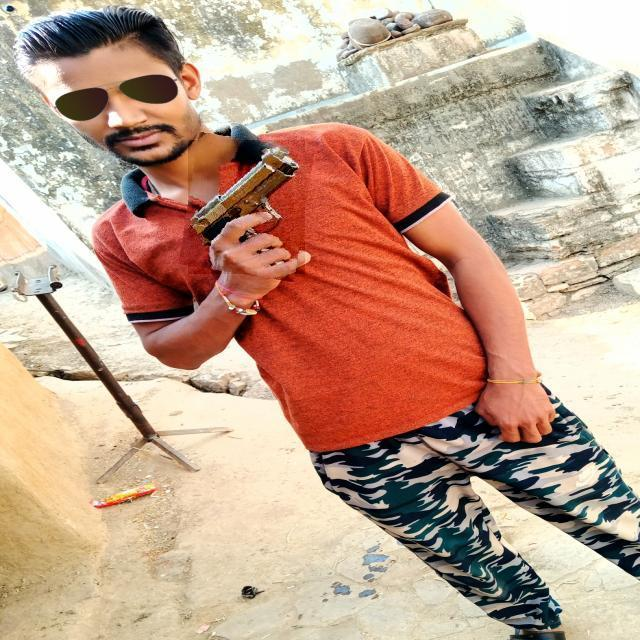handgun: (183, 136, 310, 278)
